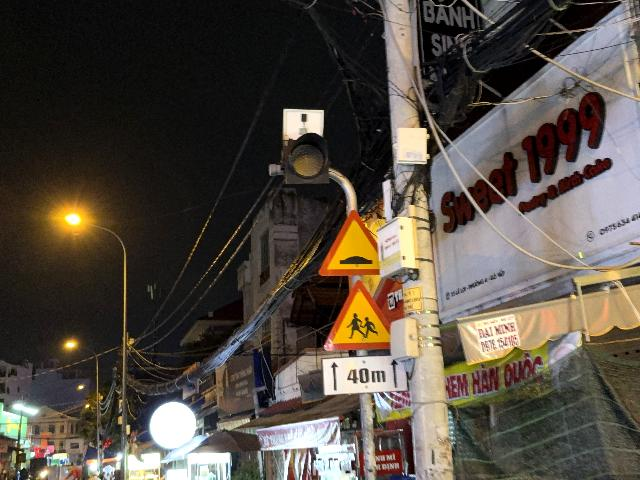duong-co-go-giam-toc: (319, 210, 380, 275)
tre-em-qua-duong: (324, 280, 391, 352)
